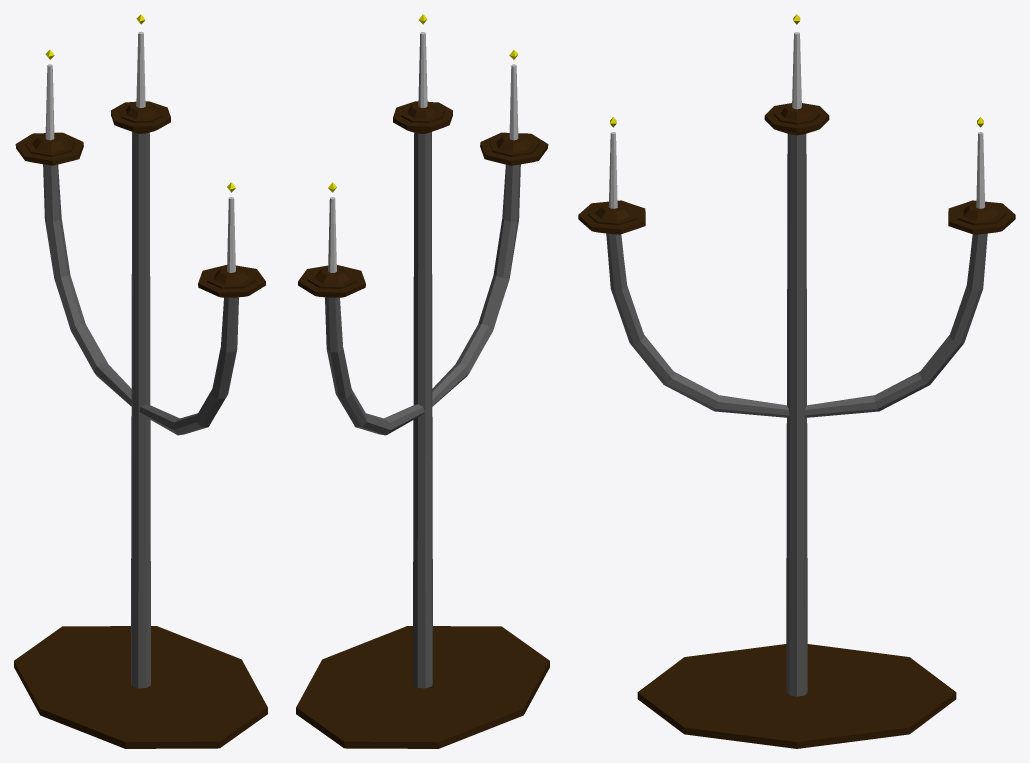
Rendered from StandingCandle.fbx.
The picture shows the model from 3 angles, left to right: view 1: azimuth 30°, elevation 25°; view 2: azimuth 150°, elevation 25°; view 3: azimuth 270°, elevation 25°; orthographic projection.
Visible parts, largest first — view 1: StandingCandle; view 2: StandingCandle; view 3: StandingCandle.
Boxes of the visible parts, bbox=[...] form: StandingCandle: bbox=[14, 14, 267, 748]; StandingCandle: bbox=[296, 14, 549, 748]; StandingCandle: bbox=[578, 14, 1015, 748].
Bounding box in the file's own units: 46.66 × 150 × 86.68.
